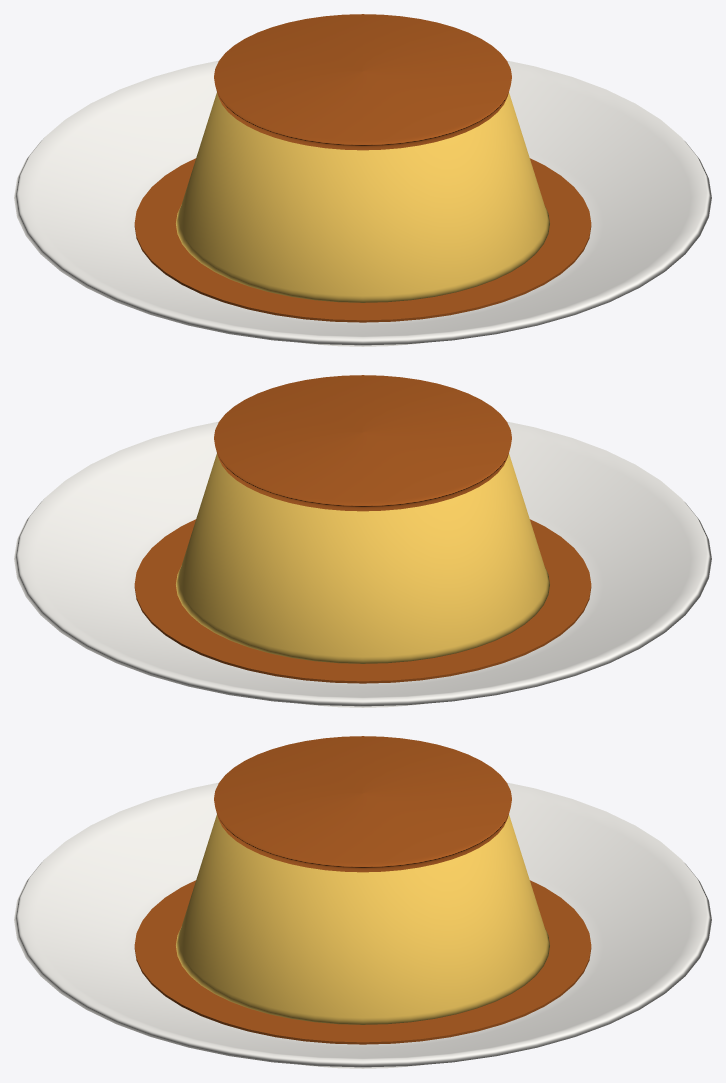
The model's file is pudim.glb.
The picture shows the model from 3 angles, top to bottom: view 1: azimuth 30°, elevation 25°; view 2: azimuth 150°, elevation 25°; view 3: azimuth 270°, elevation 25°; orthographic projection.
Parts seen in each view (by area): view 1: pudim; view 2: pudim; view 3: pudim.
Boxes of the visible parts, x1=… form: pudim: x1=14, y1=14, x2=711, y2=346; pudim: x1=14, y1=375, x2=711, y2=707; pudim: x1=14, y1=736, x2=711, y2=1068.
Bounding box in the file's own units: 0.22 × 0.064 × 0.22.
